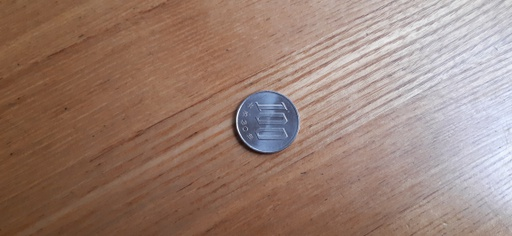100yen: (235, 92, 298, 153)
